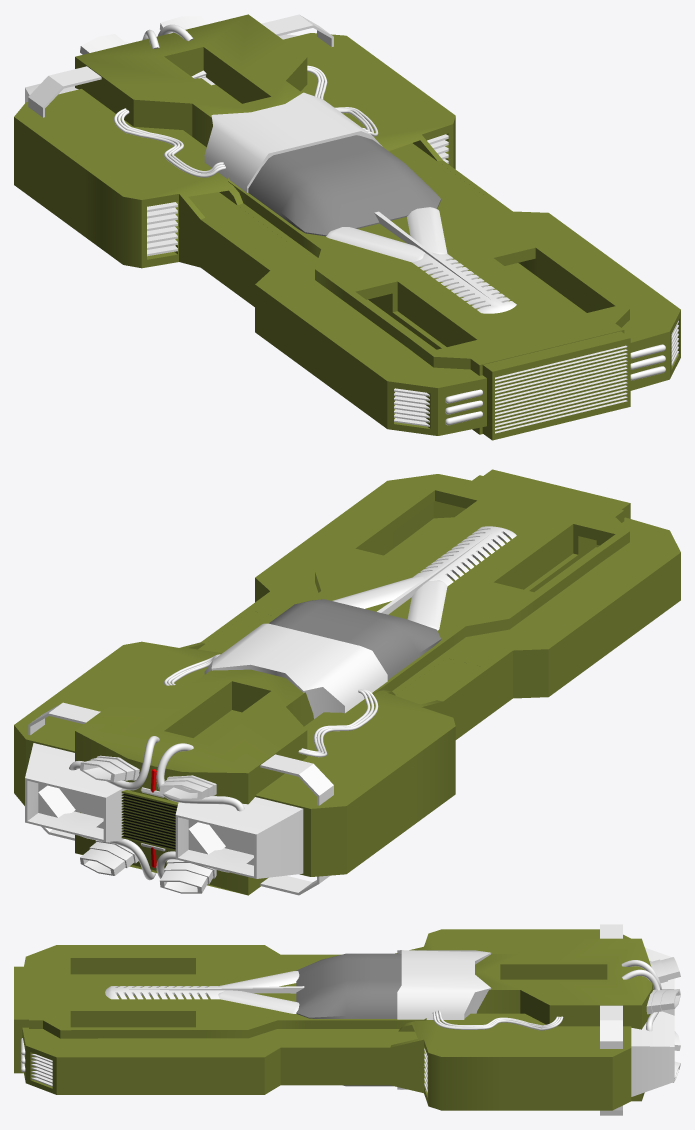
File: Stage V.obj
The picture shows the model from 3 angles, top to bottom: view 1: azimuth 30°, elevation 25°; view 2: azimuth 150°, elevation 25°; view 3: azimuth 270°, elevation 25°; orthographic projection. The views are drawn at different scales.
Parts seen in each view (by area): view 1: Hood.1; view 2: Hood.1; view 3: Hood.1.
Part boxes in pixels (x1,y1,x2,y2): Hood.1: [14, 14, 680, 440]; Hood.1: [14, 469, 680, 895]; Hood.1: [14, 924, 680, 1115].
Size of the model in its own units: 4.81 by 1.93 by 10.65.
